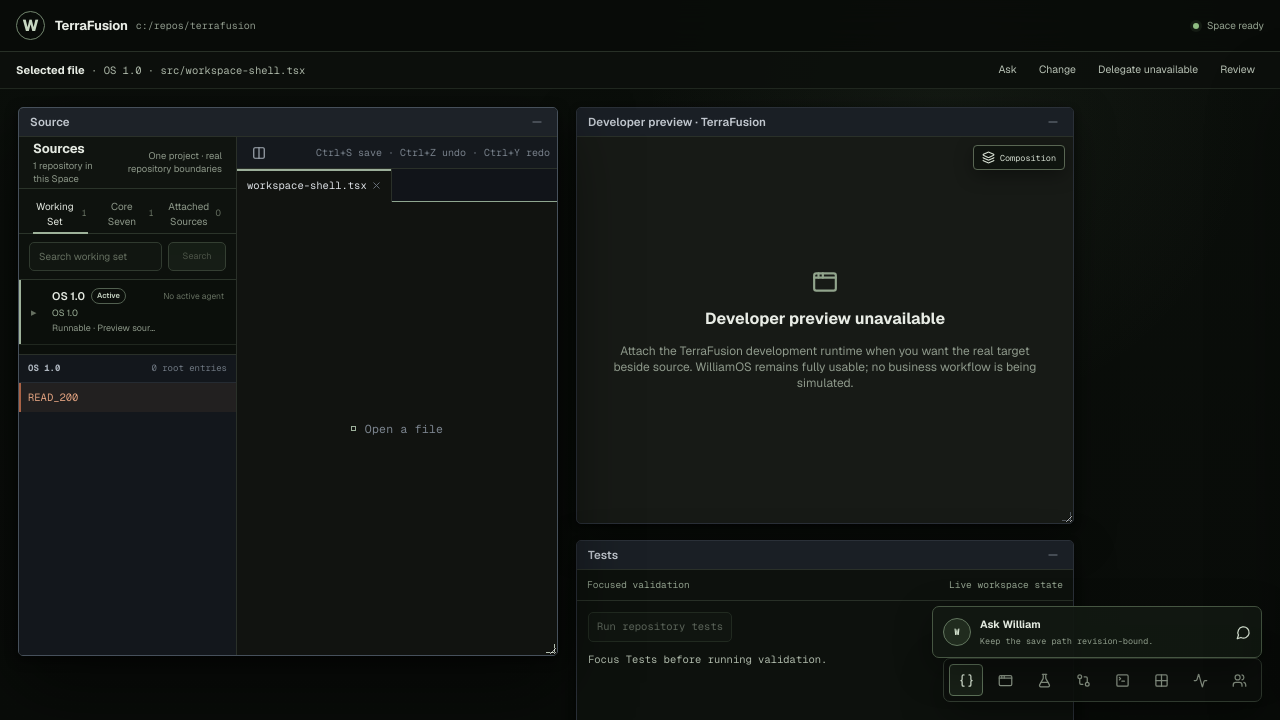
Test: durable William conversation rail › does not offer Override for an unvalidated judgment-shaped value
This screenshot has width=1280, height=720.
Click the button with aria-label "Open William conversation": click(1097, 632) [932,606,1262,658]
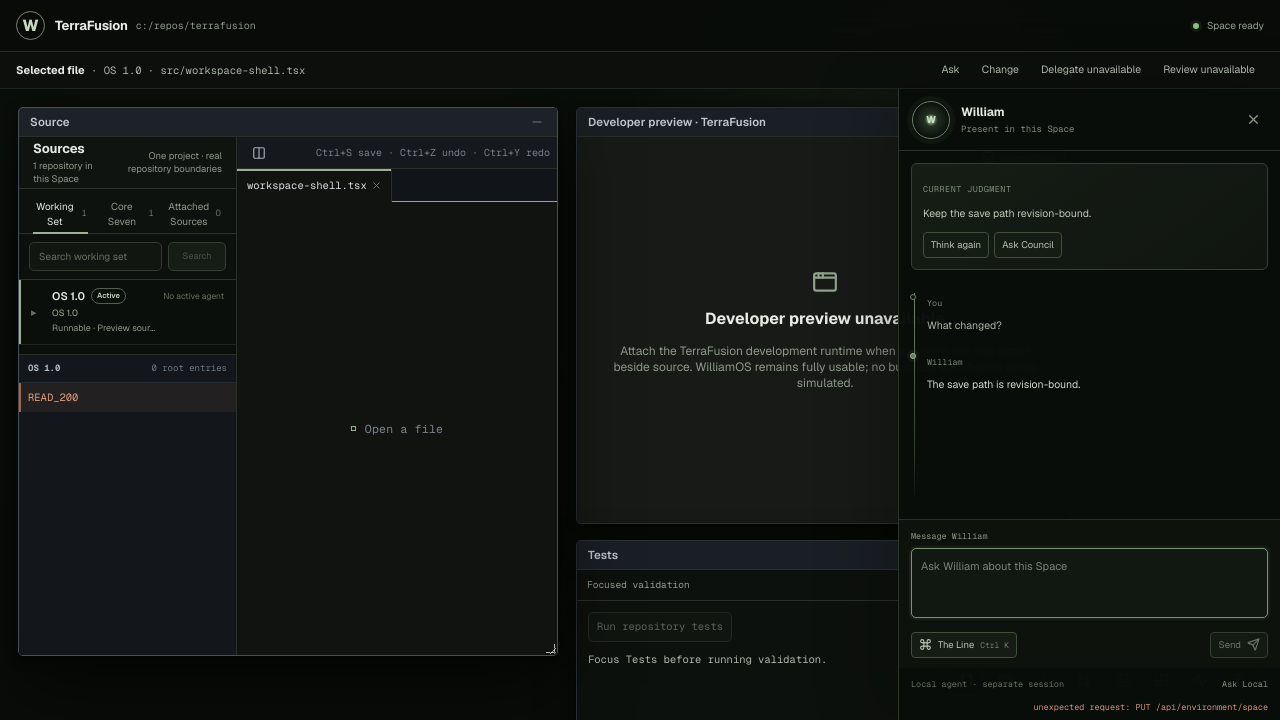
Check: the element named "William conversation" shows "Keep the save path revision-bound.", box [923,206,1091,220]
